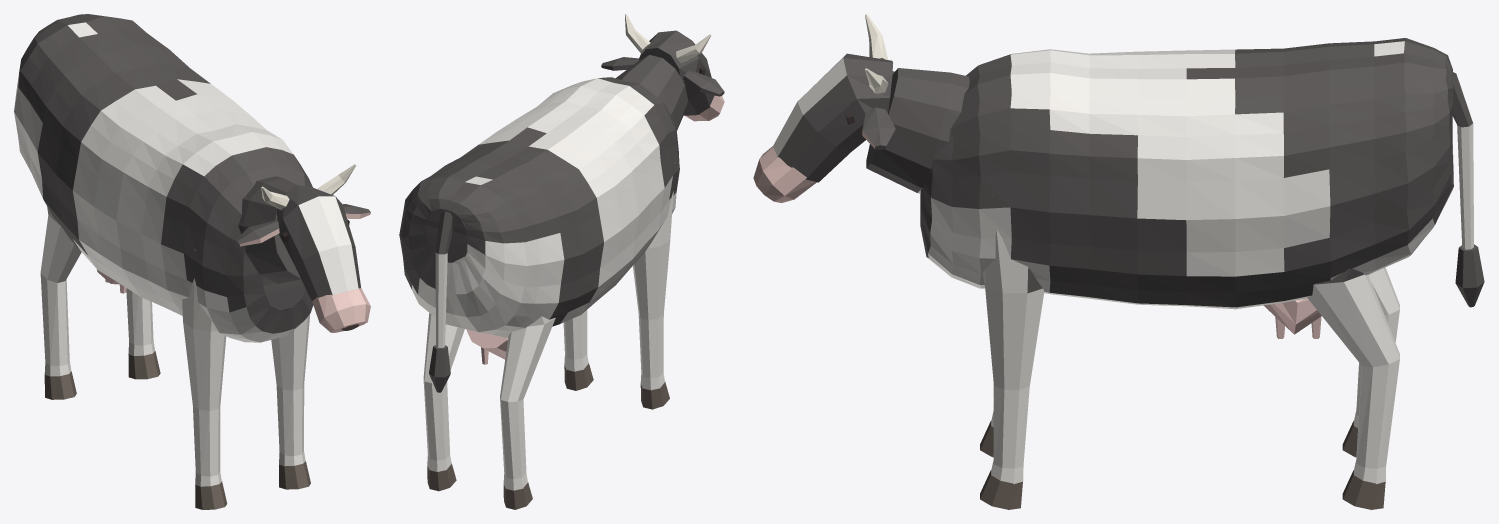
Rendered from cow.glb.
3 views of the same model, side by side, from view 1: azimuth 30°, elevation 25°; view 2: azimuth 150°, elevation 25°; view 3: azimuth 270°, elevation 25° (orthographic). The views are drawn at different scales.
Visible parts, largest first — view 1: Body, Head.Skull, Leg.FR, Leg.BR, Leg.FL, Head.Neck, Head.Muzzle, Leg.BL, Leg.BL.Hoof, Leg.FR.Hoof, Leg.BR.Hoof, Leg.FL.Hoof (+2 smaller); view 2: Body, Leg.BR, Leg.FR, Leg.BL, Head.Neck, Head.Skull, Body.Tail, Leg.FL, Body.Tail.Tuft, Body.Udder, Head.Ear#2, Leg.BL.Hoof (+6 smaller); view 3: Body, Leg.FL, Leg.BL, Head.Skull, Head.Neck, Body.Tail, Head.Muzzle, Leg.BR, Body.Tail.Tuft, Body.Udder, Leg.BL.Hoof, Leg.FL.Hoof (+1 smaller).
Boxes of the visible parts, left/top/right/bottom form: Body: left=14, top=14, right=313, bottom=342; Head.Skull: left=277, top=185, right=360, bottom=301; Leg.FR: left=182, top=249, right=226, bottom=486; Leg.BR: left=40, top=206, right=81, bottom=376; Leg.FL: left=271, top=314, right=310, bottom=466; Head.Neck: left=238, top=176, right=300, bottom=283; Head.Muzzle: left=312, top=287, right=370, bottom=332; Leg.BL: left=126, top=288, right=155, bottom=355; Leg.BL.Hoof: left=128, top=351, right=160, bottom=379; Leg.FR.Hoof: left=195, top=481, right=227, bottom=509; Leg.BR.Hoof: left=44, top=371, right=76, bottom=399; Leg.FL.Hoof: left=279, top=461, right=310, bottom=489; Body: left=399, top=77, right=679, bottom=337; Leg.BR: left=500, top=316, right=555, bottom=490; Leg.FR: left=633, top=162, right=675, bottom=389; Leg.BL: left=423, top=313, right=464, bottom=471; Head.Neck: left=616, top=55, right=687, bottom=130; Head.Skull: left=639, top=30, right=714, bottom=115; Body.Tail: left=435, top=211, right=452, bottom=347; Leg.FL: left=563, top=310, right=588, bottom=371; Body.Tail.Tuft: left=429, top=345, right=450, bottom=392; Body.Udder: left=466, top=329, right=508, bottom=359; Head.Ear#2: left=683, top=71, right=724, bottom=96; Leg.BL.Hoof: left=427, top=463, right=456, bottom=491; Body: left=920, top=38, right=1453, bottom=309; Leg.FL: left=982, top=195, right=1044, bottom=483; Leg.BL: left=1307, top=268, right=1399, bottom=484; Head.Skull: left=773, top=53, right=892, bottom=182; Head.Neck: left=866, top=68, right=969, bottom=193; Body.Tail: left=1452, top=72, right=1473, bottom=249; Head.Muzzle: left=753, top=146, right=816, bottom=202; Leg.BR: left=1354, top=267, right=1399, bottom=427; Body.Tail.Tuft: left=1455, top=244, right=1484, bottom=307; Body.Udder: left=1263, top=298, right=1321, bottom=334; Leg.BL.Hoof: left=1342, top=470, right=1385, bottom=509; Leg.FL.Hoof: left=980, top=470, right=1022, bottom=509.
Size of the model in its own units: 0.7135 by 1.5 by 2.26.
